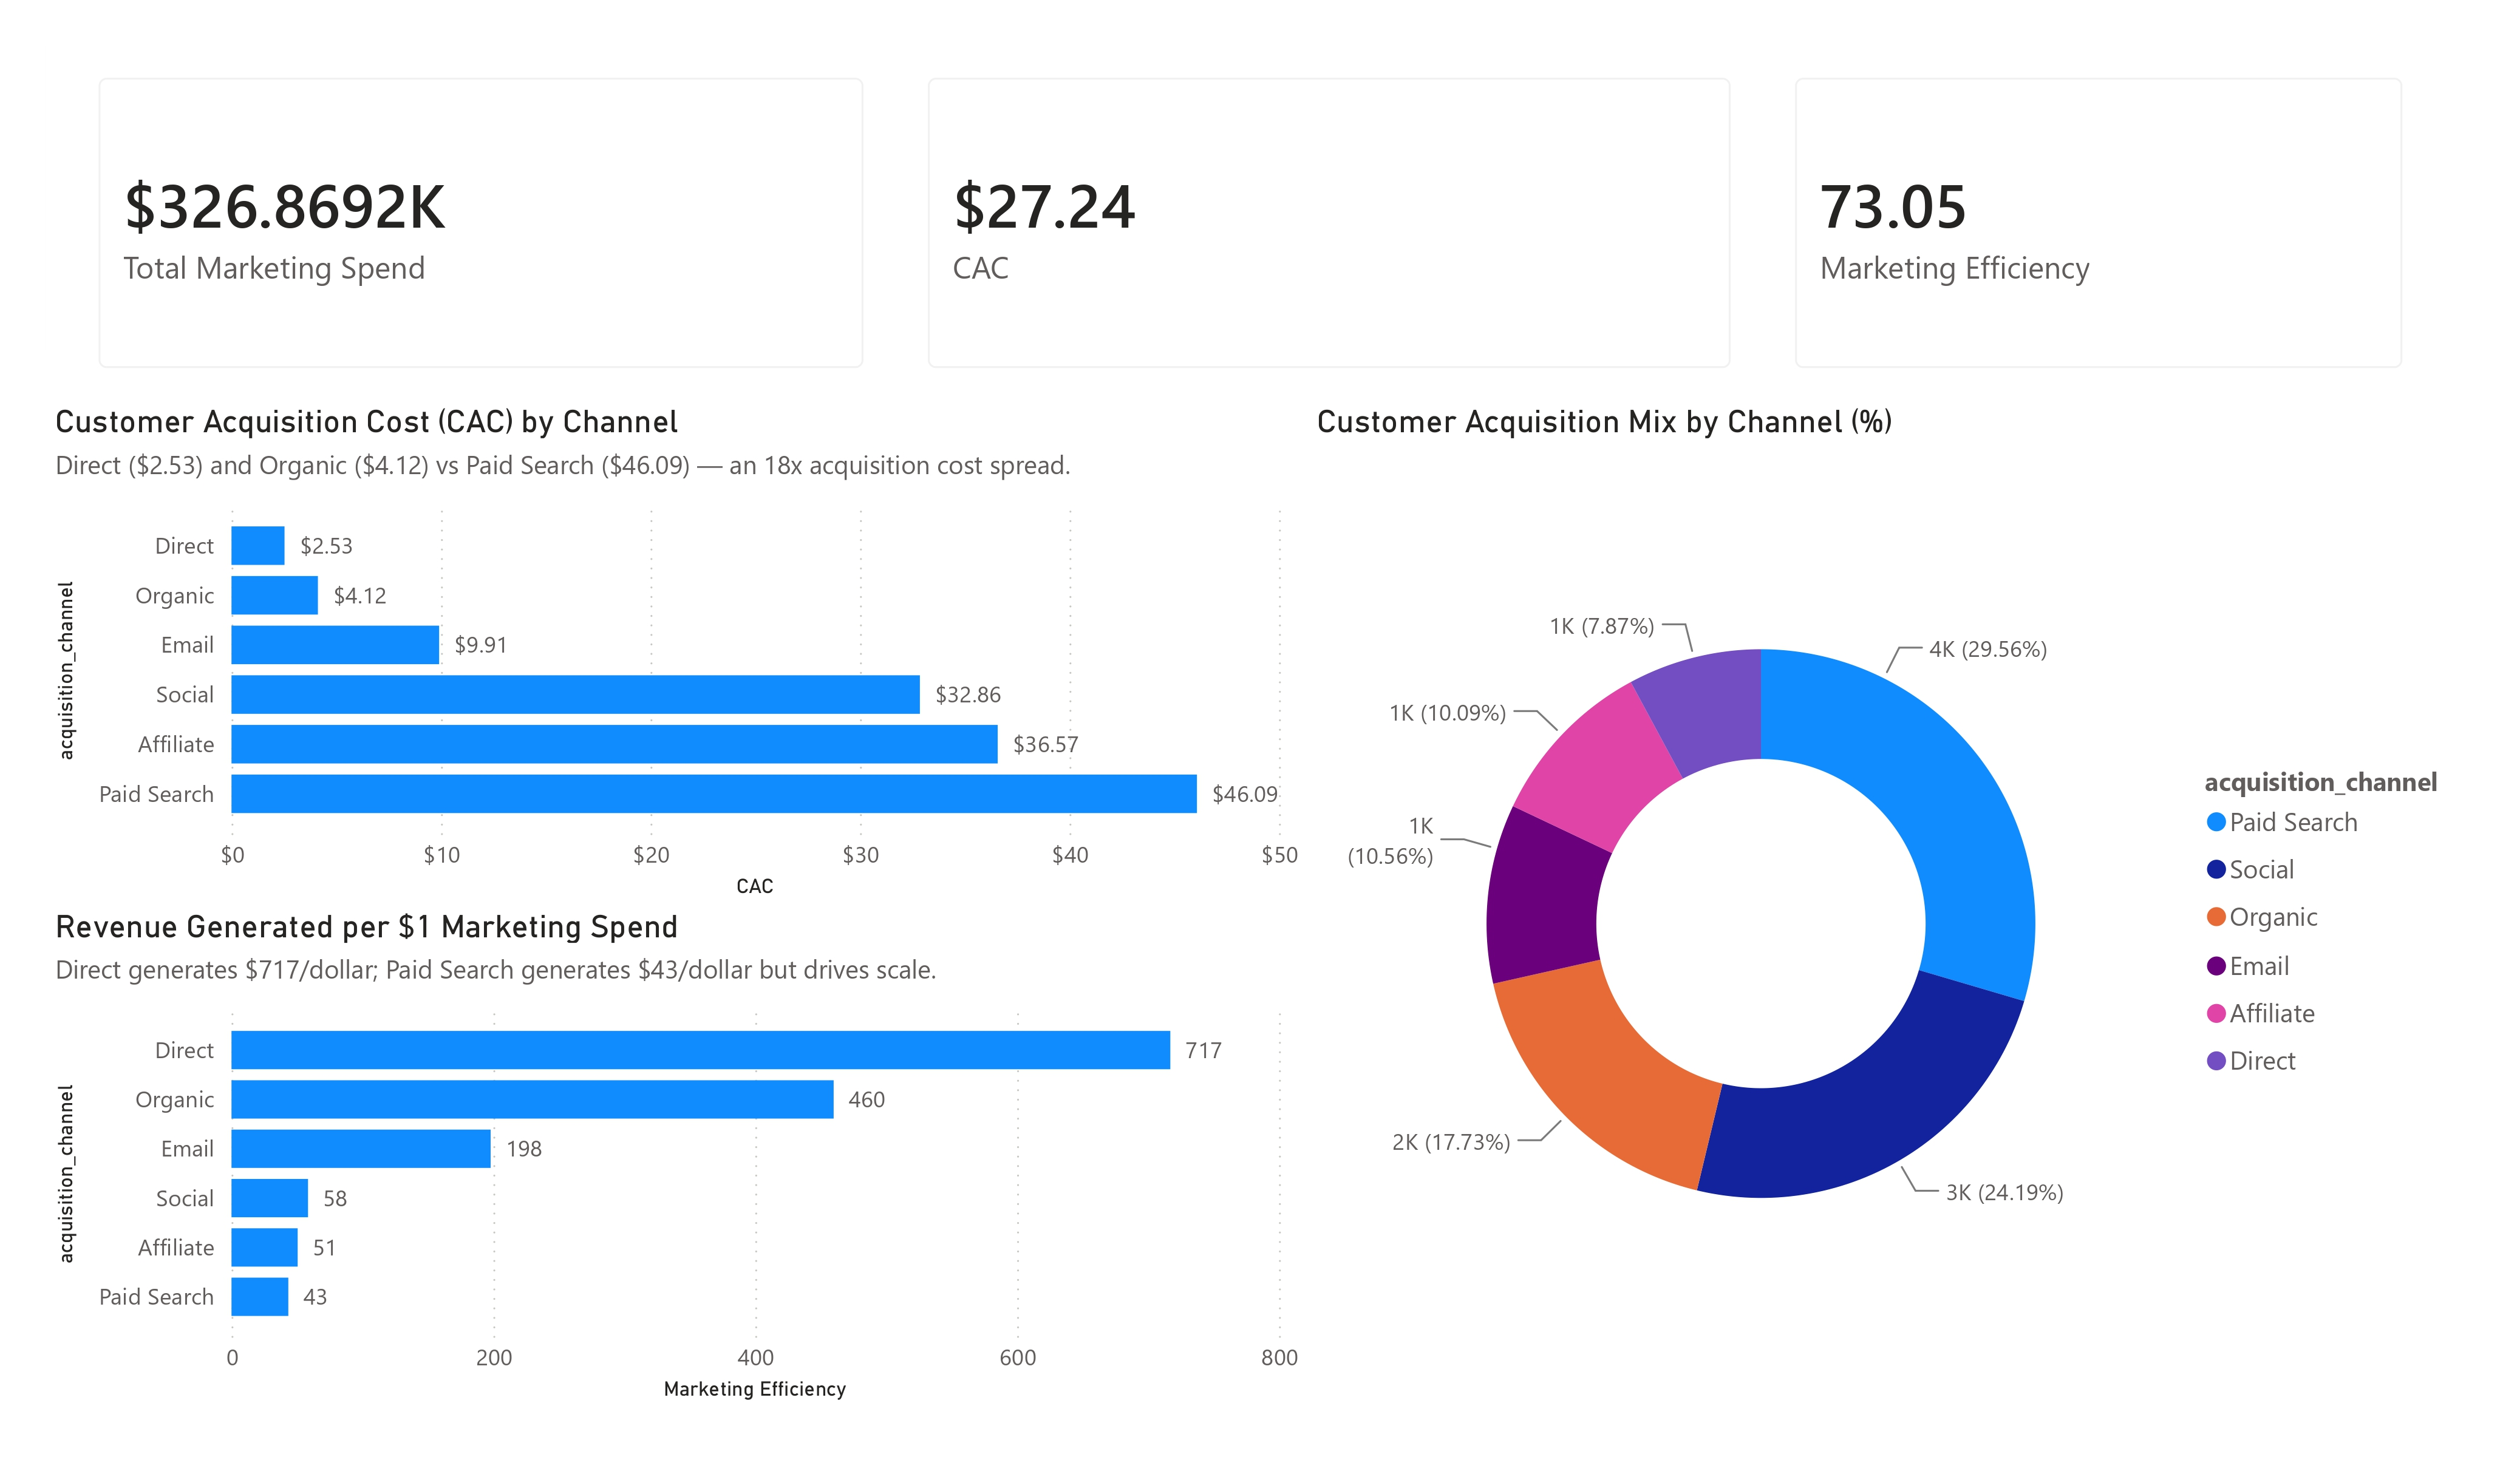

What the dashboard file says about the page in this screenshot:
{"tool":"powerbi","page":{"name":"Marketing & CAC","canvas":[1280,720],"ordinal":1},"visuals":[{"type":"cardVisual","fields":{"Data":["orders_clean.Total Marketing Spend"]},"box":[10.6,0,437.6,187.8],"z":0},{"type":"cardVisual","fields":{"Data":["orders_clean.CAC"]},"box":[448.2,0,457.3,187.8],"z":1},{"type":"cardVisual","fields":{"Data":["orders_clean.Marketing Efficiency"]},"box":[905.5,0,354.3,187.8],"z":2},{"type":"clusteredBarChart","title":"Customer Acquisition Cost (CAC) by Channel","fields":{"Category":["customers_clean.acquisition_channel"],"Y":["orders_clean.CAC"]},"box":[0,187.8,664.7,266.5],"z":3},{"type":"clusteredBarChart","title":"Revenue Generated per $1 Marketing Spend","fields":{"Category":["customers_clean.acquisition_channel"],"Y":["orders_clean.Marketing Efficiency"]},"box":[0,454.3,664.7,265],"z":4},{"type":"donutChart","title":"Customer Acquisition Mix by Channel (%)","fields":{"Category":["customers_clean.acquisition_channel"],"Y":["orders_clean.New Customers"]},"box":[664.7,187.8,614.8,531.5],"z":5}]}

Visuals, with their boxes on the page's 1280x720 design canvas (x1, y1, x2, y2). These are canvas units, not pixel positions in the 2520x1457 screenshot, which may show the page scaled, cropped or inside an application window:
cardVisual - orders_clean.Total Marketing Spend: rect(11, 0, 448, 188)
cardVisual - orders_clean.CAC: rect(448, 0, 906, 188)
cardVisual - orders_clean.Marketing Efficiency: rect(906, 0, 1260, 188)
"Customer Acquisition Cost (CAC) by Channel" clusteredBarChart: rect(0, 188, 665, 454)
"Revenue Generated per $1 Marketing Spend" clusteredBarChart: rect(0, 454, 665, 719)
"Customer Acquisition Mix by Channel (%)" donutChart: rect(665, 188, 1280, 719)
